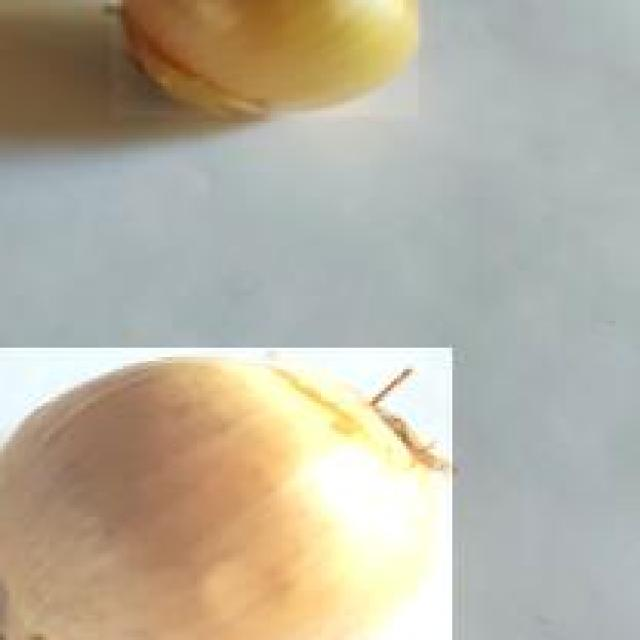onion: (0, 347, 455, 640), (110, 0, 422, 120)
